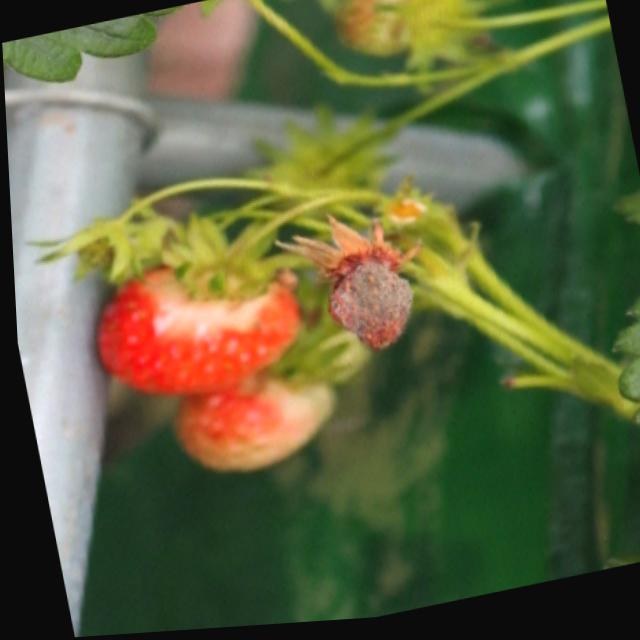Gray Mold: (271, 215, 413, 358)
